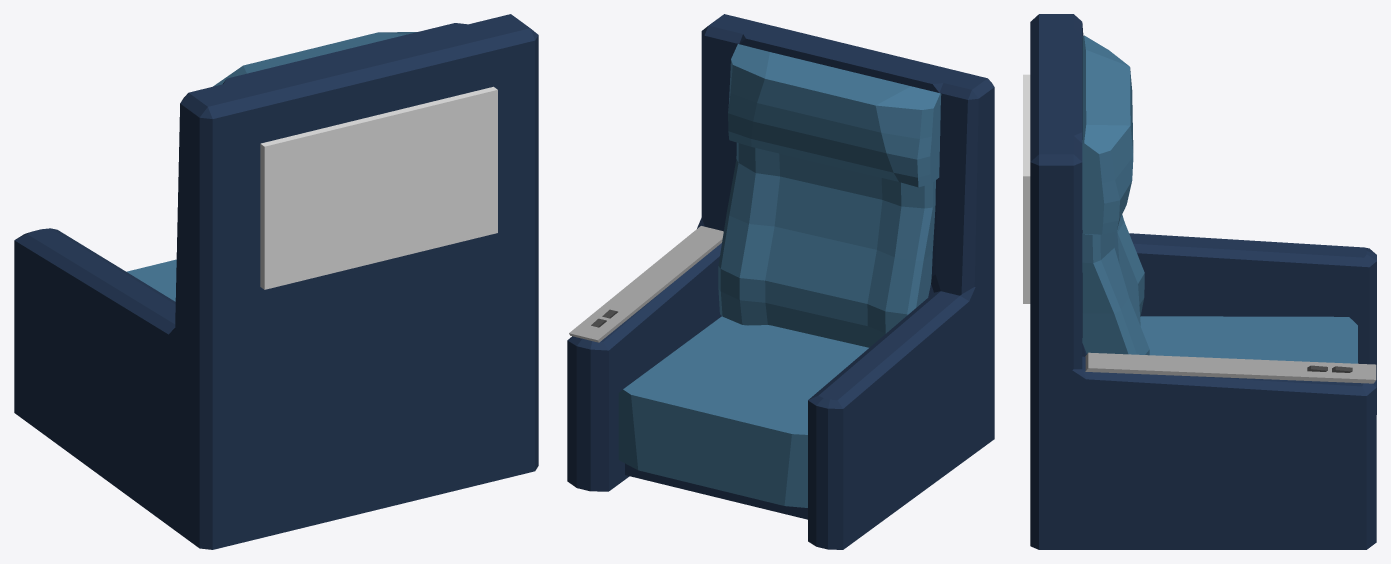
File: HyperloopSeatsplit.fbx
3 views of the same model, side by side, from view 1: azimuth 30°, elevation 25°; view 2: azimuth 150°, elevation 25°; view 3: azimuth 270°, elevation 25° (orthographic). The views are drawn at different scales.
Parts seen in each view (by area): view 1: Base.005, touchscreen, Cushion Top.004, Cushion Bottom.004; view 2: Base.005, Cushion Middle.004, Cushion Bottom.004, Cushion Top.004, Buttons, Mechanism.005; view 3: Base.005, Cushion Bottom.004, Cushion Top.004, Cushion Middle.004, Buttons, touchscreen.
Part boxes in pixels (box(x1,y1,x2,y2)): Base.005: box(14, 14, 538, 549); touchscreen: box(260, 86, 497, 289); Cushion Top.004: box(213, 32, 416, 86); Cushion Bottom.004: box(126, 259, 176, 301); Base.005: box(567, 14, 994, 549); Cushion Middle.004: box(718, 142, 935, 347); Cushion Bottom.004: box(618, 316, 868, 507); Cushion Top.004: box(728, 44, 941, 187); Buttons: box(569, 226, 723, 342); Mechanism.005: box(625, 463, 807, 519); Base.005: box(1030, 14, 1376, 549); Cushion Bottom.004: box(1140, 316, 1357, 363); Cushion Top.004: box(1082, 35, 1133, 234); Cushion Middle.004: box(1082, 214, 1149, 355); Buttons: box(1085, 352, 1376, 383); touchscreen: box(1023, 74, 1030, 303).
Size of the model in its own units: 81.73 by 101 by 82.83.
